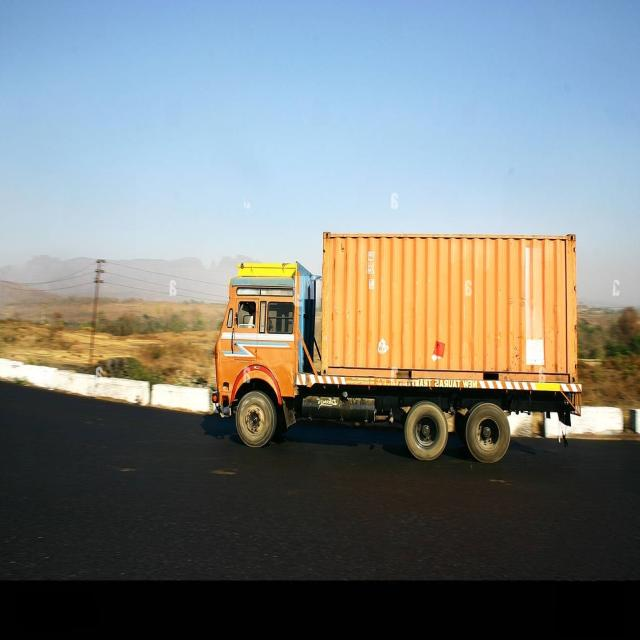truck: (212, 233, 581, 462)
